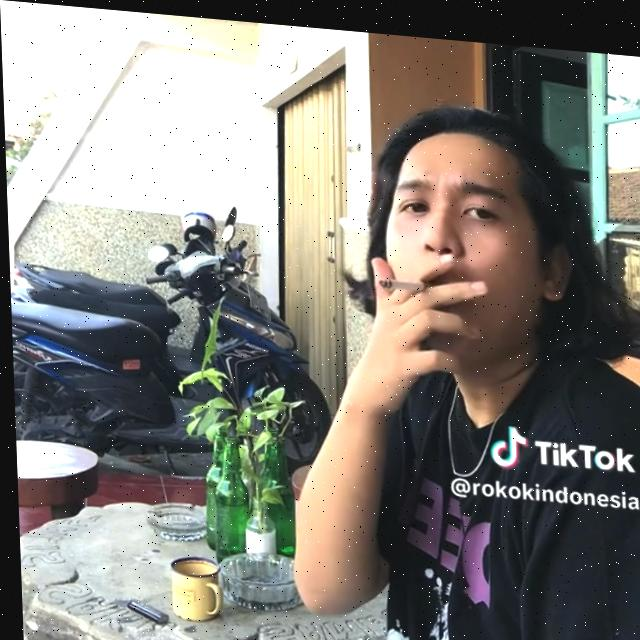cigarette: (376, 271, 422, 284)
